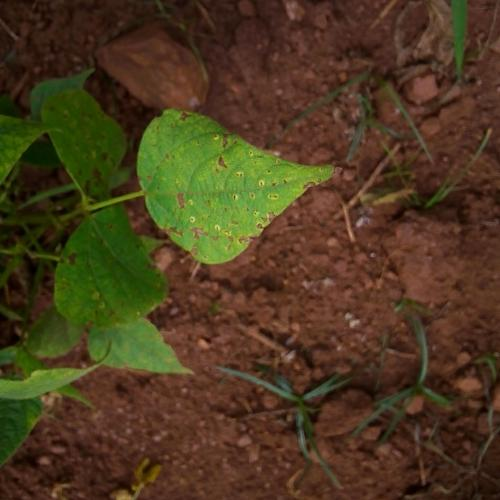hawar: (122, 110, 326, 240)
